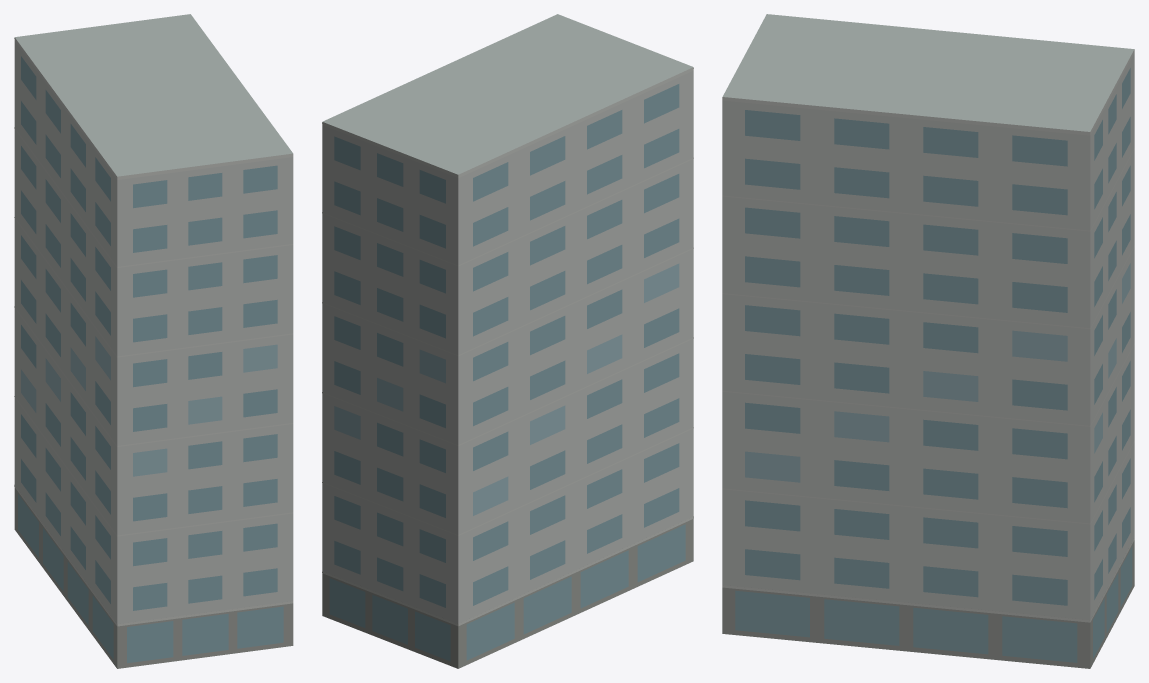
The model's file is residential-61e1e159-c689-4df8-96b9-0a714f23a08b.glb.
3 renders of one model, left to right at view 1: azimuth 30°, elevation 25°; view 2: azimuth 150°, elevation 25°; view 3: azimuth 270°, elevation 25°, orthographic. The views are drawn at different scales.
Parts seen in each view (by area): view 1: residential-61e1e159-c689-4df8-96b9-0a714f23a08b.tmp; view 2: residential-61e1e159-c689-4df8-96b9-0a714f23a08b.tmp; view 3: residential-61e1e159-c689-4df8-96b9-0a714f23a08b.tmp.
Boxes of the visible parts, x1,y1,x2,y2 form: residential-61e1e159-c689-4df8-96b9-0a714f23a08b.tmp: (14, 14, 293, 668); residential-61e1e159-c689-4df8-96b9-0a714f23a08b.tmp: (322, 14, 693, 668); residential-61e1e159-c689-4df8-96b9-0a714f23a08b.tmp: (722, 14, 1134, 668).
Size of the model in its own units: 16.53 by 35 by 24.37.
